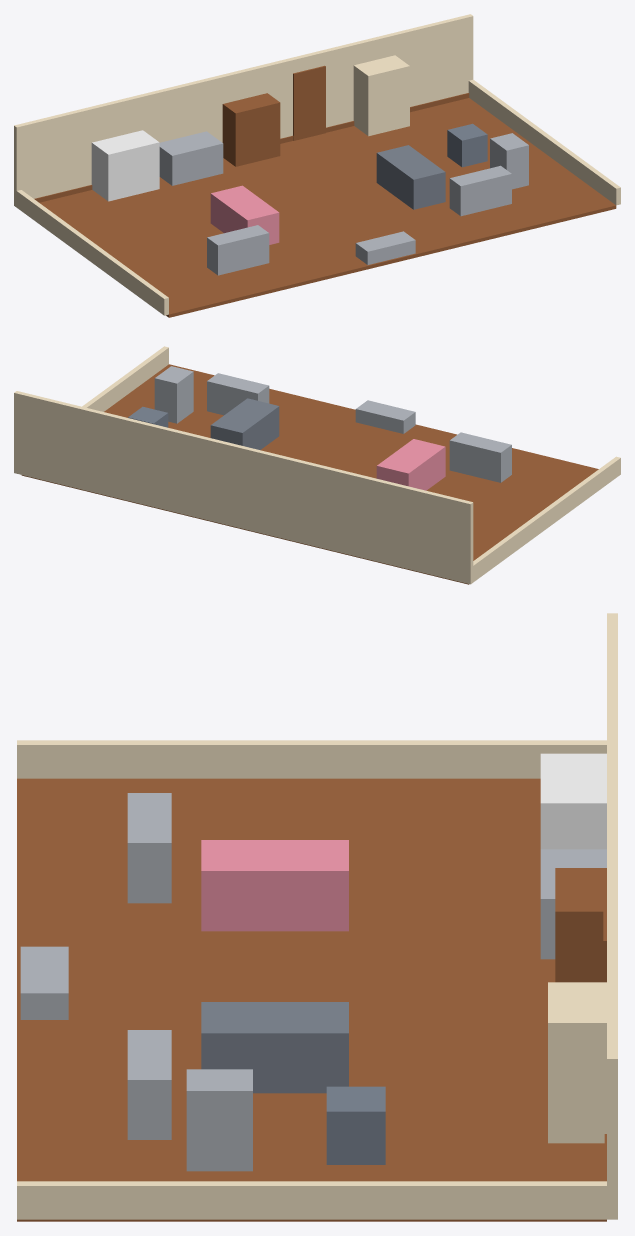
Rendered from SM_room_kitchen.glb.
3 renders of one model, top to bottom at view 1: azimuth 30°, elevation 25°; view 2: azimuth 150°, elevation 25°; view 3: azimuth 270°, elevation 25°, orthographic. The views are drawn at different scales.
Visible parts, largest first — view 1: SM_room_kitchen_shell, PH_0_washer, PH_4_cabinet, PH_2_shelf, PH_6_stove, PH_1_sink, PH_5_heavy, PH_10_steel, PH_9_steel, PH_8_rack, PH_7_bin, PH_11_cart; view 2: SM_room_kitchen_shell, PH_6_stove, PH_5_heavy, PH_9_steel, PH_8_rack, PH_10_steel, PH_11_cart, PH_7_bin; view 3: SM_room_kitchen_shell, PH_5_heavy, PH_6_stove, PH_4_cabinet, PH_8_rack, PH_0_washer, PH_2_shelf, PH_9_steel, PH_10_steel, PH_7_bin, PH_11_cart, PH_1_sink.
Boxes of the visible parts, <box> form: SM_room_kitchen_shell: <box>14,14,620,317</box>; PH_0_washer: <box>91,130,159,201</box>; PH_4_cabinet: <box>353,55,409,136</box>; PH_2_shelf: <box>222,93,280,166</box>; PH_6_stove: <box>376,145,445,209</box>; PH_1_sink: <box>159,131,223,185</box>; PH_5_heavy: <box>210,185,279,244</box>; PH_10_steel: <box>449,165,511,216</box>; PH_9_steel: <box>207,225,269,275</box>; PH_8_rack: <box>490,133,528,189</box>; PH_7_bin: <box>447,123,487,167</box>; PH_11_cart: <box>355,231,415,264</box>; SM_room_kitchen_shell: <box>14,346,620,584</box>; PH_6_stove: <box>210,398,279,449</box>; PH_5_heavy: <box>376,439,445,490</box>; PH_9_steel: <box>449,432,511,482</box>; PH_8_rack: <box>154,366,193,423</box>; PH_10_steel: <box>207,373,269,415</box>; PH_11_cart: <box>355,400,415,433</box>; PH_7_bin: <box>128,406,168,427</box>; SM_room_kitchen_shell: <box>17,613,617,1221</box>; PH_5_heavy: <box>201,840,348,931</box>; PH_6_stove: <box>201,1002,348,1093</box>; PH_4_cabinet: <box>548,982,606,1143</box>; PH_8_rack: <box>186,1069,252,1171</box>; PH_0_washer: <box>540,753,606,849</box>; PH_2_shelf: <box>555,868,606,982</box>; PH_9_steel: <box>127,793,171,903</box>; PH_10_steel: <box>127,1030,171,1139</box>; PH_7_bin: <box>326,1086,385,1164</box>; PH_11_cart: <box>20,946,68,1019</box>; PH_1_sink: <box>540,849,606,959</box>.
Bounding box in the file's own units: 14.3 × 2.5 × 8.15.
Materials: 1 (1 with a texture image).
